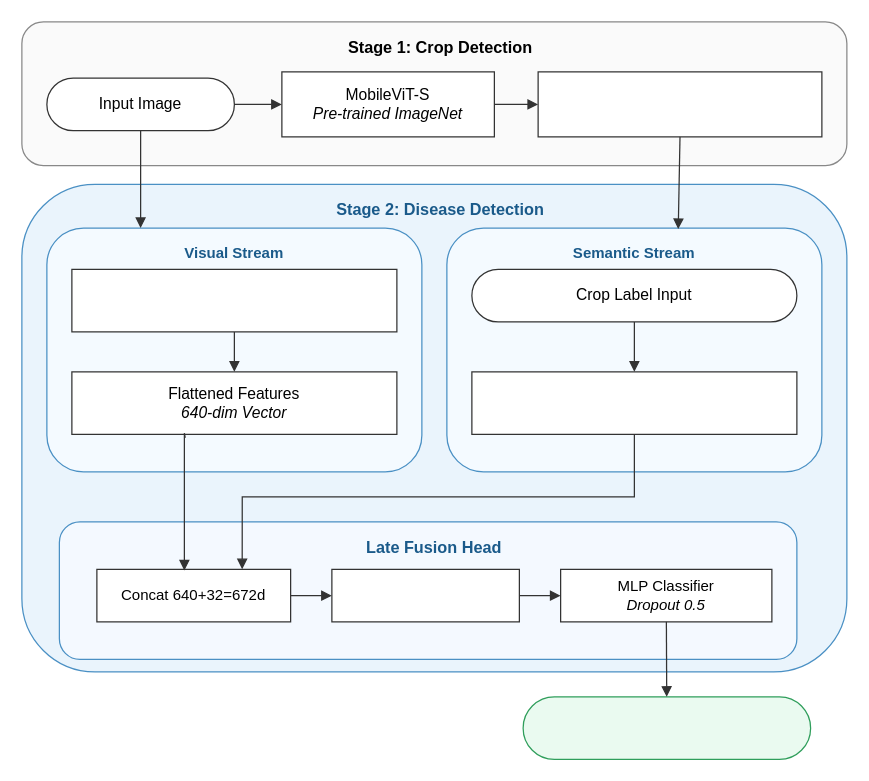
Image size: 869x781. Some labels were removed from this diagram. Each missing label, with the box of its shape:
Final Disease Prediction e.g., 'Corn Smut': (522, 696, 811, 759)
Layer Norm: (331, 568, 519, 622)
Learnable Embedding 32-dim Vector: (471, 371, 797, 434)
MobileViT-S Feature Extractor: (71, 268, 397, 332)
Predicted Crop Label e.g., 'Corn': (537, 71, 822, 137)
